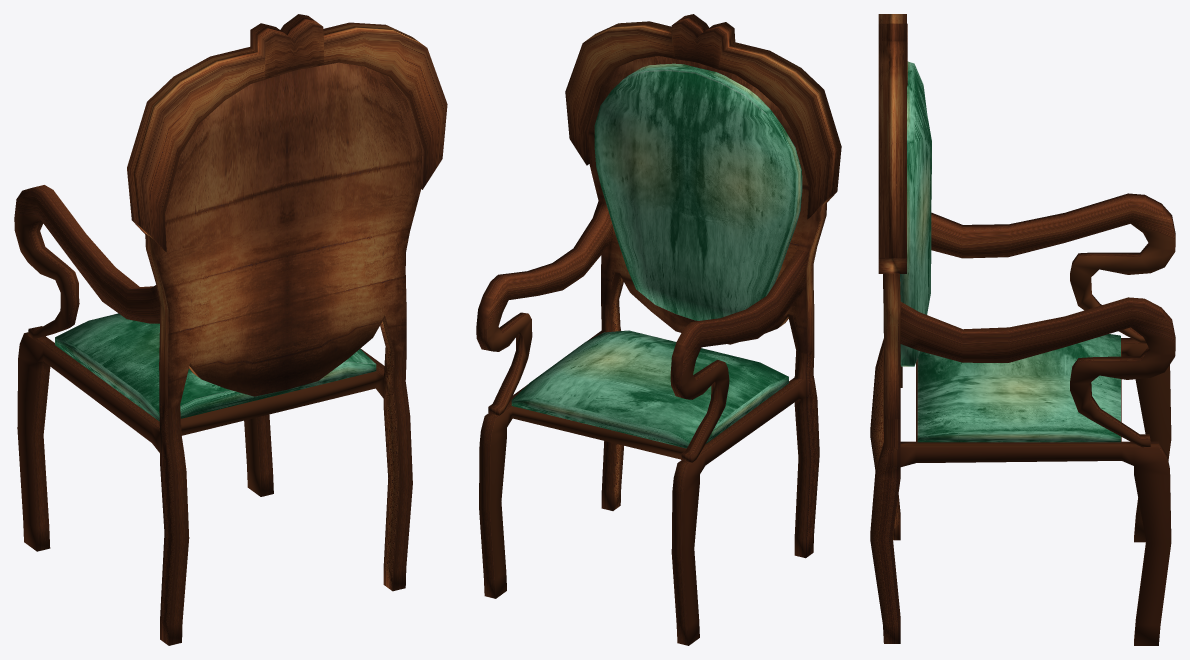
Rendered from silla.fbx.
3 renders of one model, left to right at view 1: azimuth 30°, elevation 25°; view 2: azimuth 150°, elevation 25°; view 3: azimuth 270°, elevation 25°, orthographic. The views are drawn at different scales.
Visible parts, largest first — view 1: silla, cabezal, asiento; view 2: silla, respaldo, asiento, cabezal; view 3: silla, asiento, cabezal, respaldo.
Part boxes in pixels (left/top/right/bottom): silla: left=14, top=62, right=422, bottom=645; cabezal: left=127, top=14, right=447, bottom=251; asiento: left=55, top=313, right=376, bottom=421; silla: left=476, top=56, right=826, bottom=645; respaldo: left=594, top=63, right=802, bottom=320; asiento: left=511, top=330, right=788, bottom=448; cabezal: left=565, top=14, right=841, bottom=219; silla: left=870, top=193, right=1175, bottom=645; asiento: left=917, top=334, right=1120, bottom=442; cabezal: left=878, top=14, right=907, bottom=273; respaldo: left=900, top=61, right=931, bottom=366.
Bounding box in the file's own units: 34.22 × 63.17 × 31.2.
